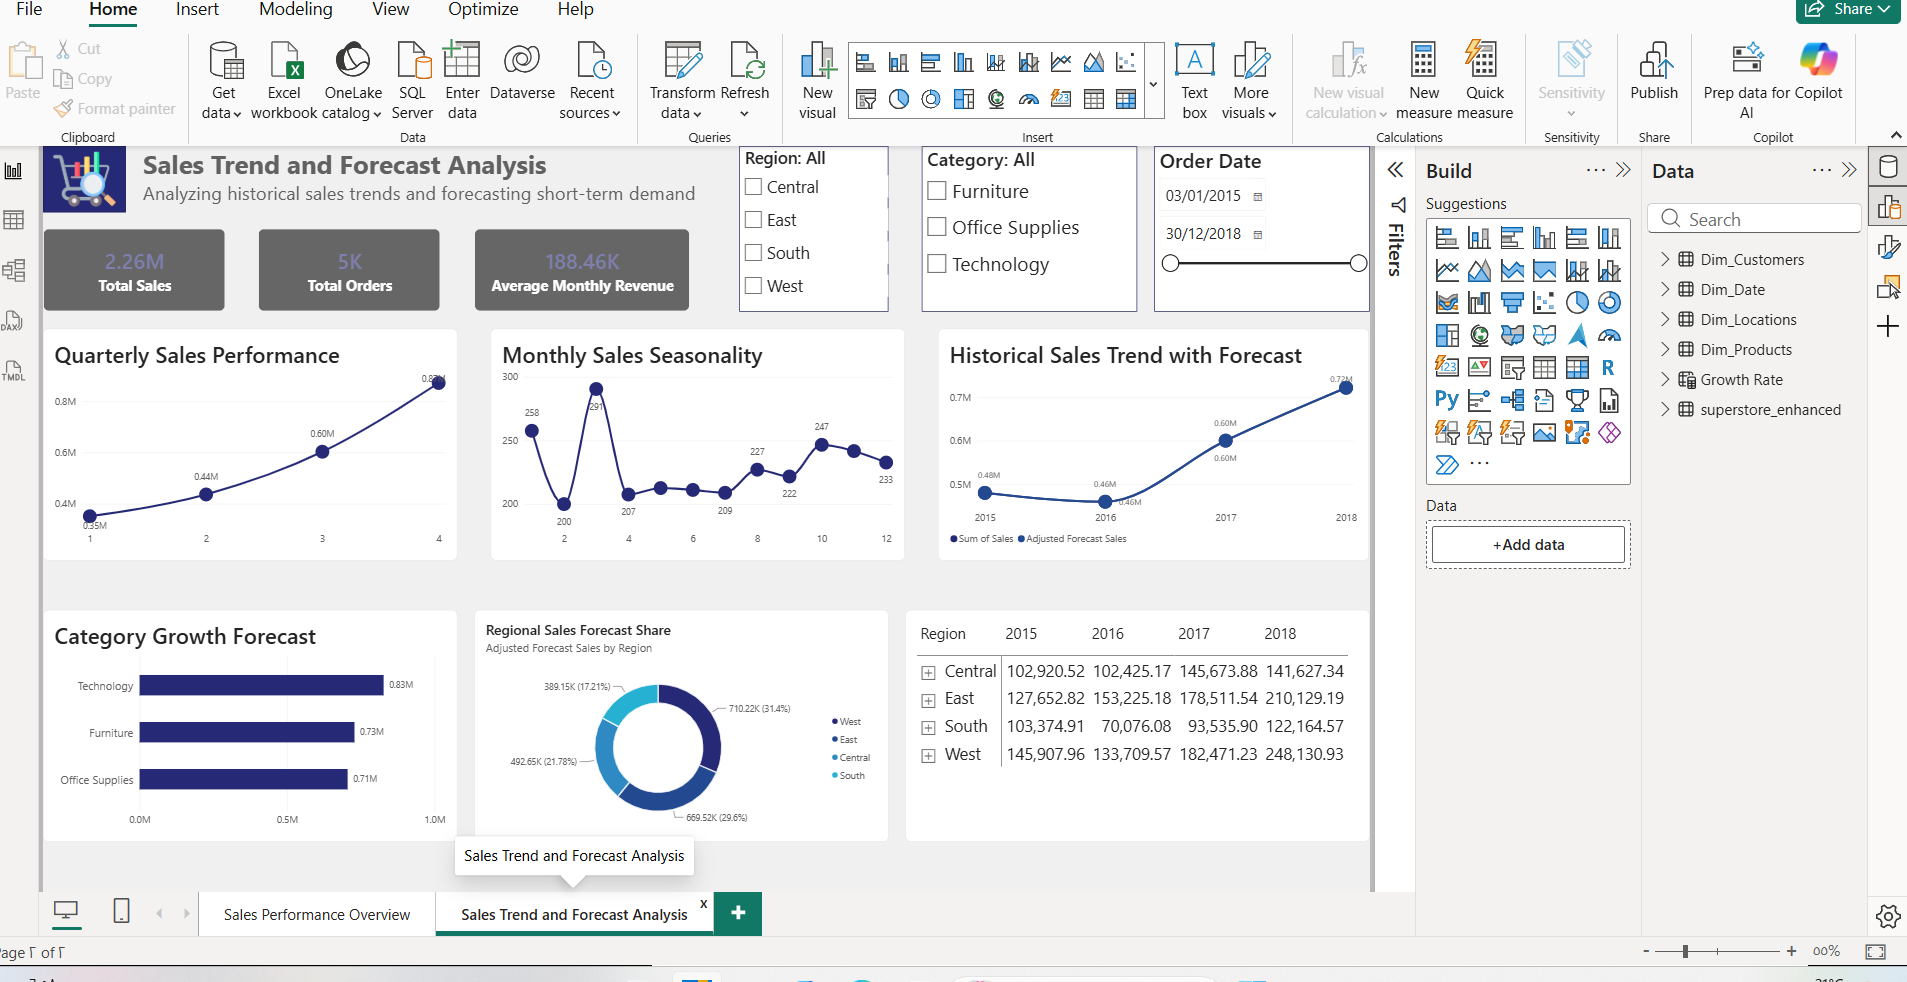

This screenshot's page, from the dashboard's own definition file:
{"tool":"powerbi","page":{"name":"Sales Trend and Forecast Analysis","canvas":[1920,1080],"ordinal":1},"visuals":[{"type":"textbox","box":[144,0,816,288],"z":0},{"type":"shape","box":[0,0,120,96],"z":1000},{"type":"image","box":[0,0,120,96],"z":2000},{"type":"shape","box":[1008,0,216,240],"z":3000},{"type":"shape","box":[1272,0,312,240],"z":4000},{"type":"shape","box":[1608,0,312,240],"z":5000},{"type":"slicer","fields":{"Values":["superstore_enhanced.Region"]},"box":[1008,0,216,240],"z":6000},{"type":"slicer","fields":{"Values":["superstore_enhanced.Category"]},"box":[1272,0,288,288],"z":7000},{"type":"slicer","fields":{"Values":["superstore_enhanced.Order Date"]},"box":[1608,0,312,240],"z":7001},{"type":"cardVisual","fields":{"Data":["superstore_enhanced.Total Sales"]},"box":[0,120,264,120],"z":7002},{"type":"cardVisual","fields":{"Data":["superstore_enhanced.Total Orders"]},"box":[312,120,264,120],"z":7003},{"type":"cardVisual","fields":{"Data":["superstore_enhanced.Average Monthly Revenue"]},"box":[624,120,312,120],"z":7004},{"type":"lineChart","title":"Quarterly Sales Performance","fields":{"Category":["Dim_Date.Quarter"],"Y":["Sum(superstore_enhanced.Sales)"]},"box":[0,264,600,336],"z":7005},{"type":"lineChart","title":"Monthly Sales Seasonality","fields":{"Category":["Dim_Date.Month"],"Y":["Avg(superstore_enhanced.Sales)"]},"box":[648,264,600,336],"z":7006},{"type":"lineChart","title":"Historical Sales Trend with Forecast","fields":{"Category":["Dim_Date.Year"],"Y":["Sum(superstore_enhanced.Sales)","superstore_enhanced.Adjusted Forecast Sales"]},"box":[1296,264,624,336],"z":7007},{"type":"clusteredBarChart","title":"Category Growth Forecast","fields":{"Category":["superstore_enhanced.Category"],"Y":["superstore_enhanced.Adjusted Forecast Sales"]},"box":[0,672,600,336],"z":7009},{"type":"donutChart","title":"Regional Sales Forecast Share","fields":{"Category":["superstore_enhanced.Region"],"Y":["superstore_enhanced.Adjusted Forecast Sales"]},"box":[624,672,600,336],"z":7010},{"type":"pivotTable","fields":{"Columns":["Dim_Date.Year"],"Rows":["superstore_enhanced.Region","superstore_enhanced.Category"],"Values":["superstore_enhanced.Adjusted Forecast Sales"]},"box":[1248,672,672,336],"z":7011}]}

Visuals, with their boxes on the page's 1920x1080 design canvas (x1, y1, x2, y2). These are canvas units, not pixel positions in the 1907x982 screenshot, which may show the page scaled, cropped or inside an application window:
textbox: [left=144, top=0, right=960, bottom=288]
shape: [left=0, top=0, right=120, bottom=96]
image: [left=0, top=0, right=120, bottom=96]
shape: [left=1008, top=0, right=1224, bottom=240]
shape: [left=1272, top=0, right=1584, bottom=240]
shape: [left=1608, top=0, right=1920, bottom=240]
slicer - superstore_enhanced.Region: [left=1008, top=0, right=1224, bottom=240]
slicer - superstore_enhanced.Category: [left=1272, top=0, right=1560, bottom=288]
slicer - superstore_enhanced.Order Date: [left=1608, top=0, right=1920, bottom=240]
cardVisual - superstore_enhanced.Total Sales: [left=0, top=120, right=264, bottom=240]
cardVisual - superstore_enhanced.Total Orders: [left=312, top=120, right=576, bottom=240]
cardVisual - superstore_enhanced.Average Monthly Revenue: [left=624, top=120, right=936, bottom=240]
"Quarterly Sales Performance" lineChart: [left=0, top=264, right=600, bottom=600]
"Monthly Sales Seasonality" lineChart: [left=648, top=264, right=1248, bottom=600]
"Historical Sales Trend with Forecast" lineChart: [left=1296, top=264, right=1920, bottom=600]
"Category Growth Forecast" clusteredBarChart: [left=0, top=672, right=600, bottom=1008]
"Regional Sales Forecast Share" donutChart: [left=624, top=672, right=1224, bottom=1008]
pivotTable - Dim_Date.Year x superstore_enhanced.Region: [left=1248, top=672, right=1920, bottom=1008]
